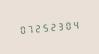five: (41, 20, 48, 34)
four: (73, 17, 80, 31)
seven: (25, 22, 32, 35)
three: (57, 19, 64, 32)
two: (33, 21, 40, 34), (49, 20, 56, 33)
zero: (17, 22, 24, 36), (65, 18, 72, 31)
